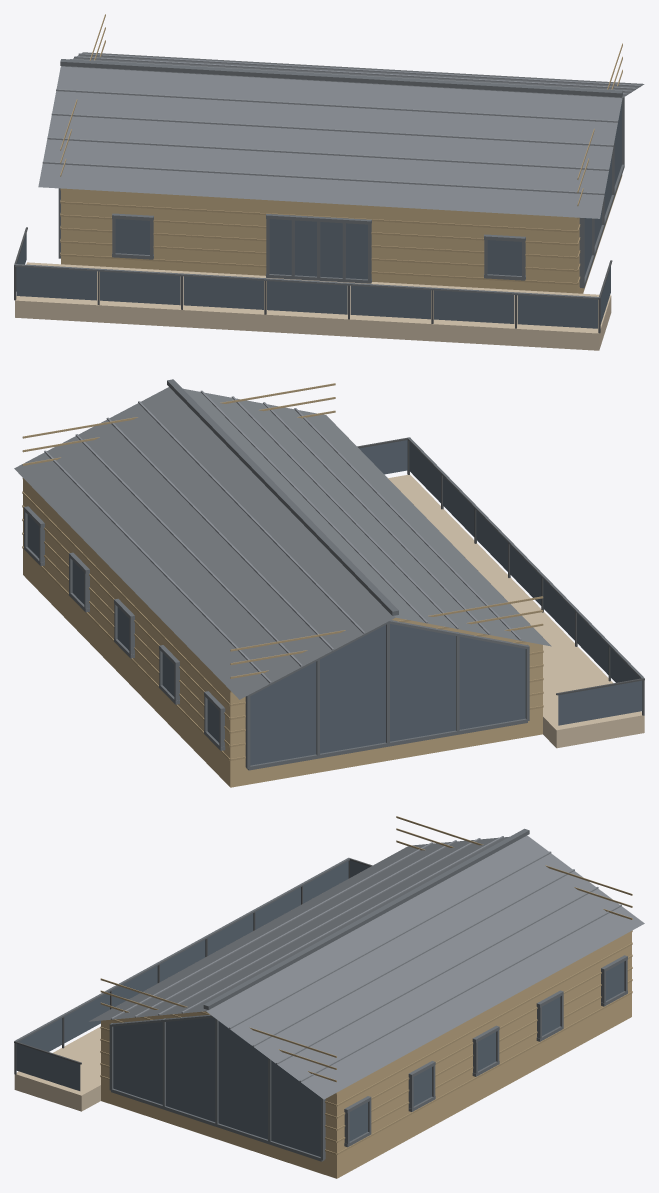
The picture shows the model from 3 angles, top to bottom: view 1: azimuth 30°, elevation 25°; view 2: azimuth 150°, elevation 25°; view 3: azimuth 270°, elevation 25°; orthographic projection. The views are drawn at different scales.
Parts seen in each view (by area): view 1: slate, door_wood, larch, slate_dk, slate_lt, door_wood_p, window_glass_003, window_glass_004, window_glass_007, window_glass_006, window_glass_001, window_glass_002 (+9 smaller); view 2: slate, window_glass_017, door_wood, slate_dk, larch, slate_lt, door_wood_p, window_glass_008, pipe, window_glass_009, window_glass_003, window_glass_005 (+4 smaller); view 3: slate, door_wood, window_glass_016, slate_dk, slate_lt, door_wood_p, larch, window_glass_009, window_glass_006, window_glass_003, window_glass_001, window_glass_002 (+9 smaller).
Part boxes in pixels (bbox=[...]): slate: bbox=[38, 52, 644, 218]; door_wood: bbox=[61, 175, 622, 293]; larch: bbox=[15, 262, 611, 350]; slate_dk: bbox=[15, 59, 624, 299]; slate_lt: bbox=[42, 53, 640, 194]; door_wood_p: bbox=[60, 14, 622, 284]; window_glass_003: bbox=[183, 276, 263, 309]; window_glass_004: bbox=[267, 281, 347, 314]; window_glass_007: bbox=[517, 295, 597, 328]; window_glass_006: bbox=[434, 290, 514, 323]; window_glass_001: bbox=[16, 267, 96, 300]; window_glass_002: bbox=[100, 271, 180, 305]; slate: bbox=[14, 387, 551, 699]; window_glass_017: bbox=[250, 624, 525, 765]; door_wood: bbox=[23, 478, 542, 787]; slate_dk: bbox=[24, 379, 644, 770]; larch: bbox=[388, 474, 644, 748]; slate_lt: bbox=[44, 390, 521, 683]; door_wood_p: bbox=[22, 383, 543, 760]; window_glass_008: bbox=[558, 680, 642, 725]; pipe: bbox=[357, 437, 644, 715]; window_glass_009: bbox=[359, 440, 407, 474]; window_glass_003: bbox=[543, 579, 574, 640]; window_glass_005: bbox=[476, 510, 507, 571]; slate: bbox=[89, 835, 644, 1099]; door_wood: bbox=[101, 931, 631, 1178]; window_glass_016: bbox=[113, 1017, 320, 1156]; slate_dk: bbox=[15, 828, 627, 1161]; slate_lt: bbox=[111, 836, 621, 1081]; door_wood_p: bbox=[100, 816, 632, 1154]; larch: bbox=[14, 1027, 100, 1111]; window_glass_009: bbox=[16, 1043, 80, 1090]; window_glass_006: bbox=[64, 992, 109, 1043]; window_glass_003: bbox=[207, 913, 253, 955]; window_glass_001: bbox=[303, 861, 348, 903]; window_glass_002: bbox=[255, 887, 300, 929].
Size of the model in its own units: 18.76 by 4.42 by 17.89.
